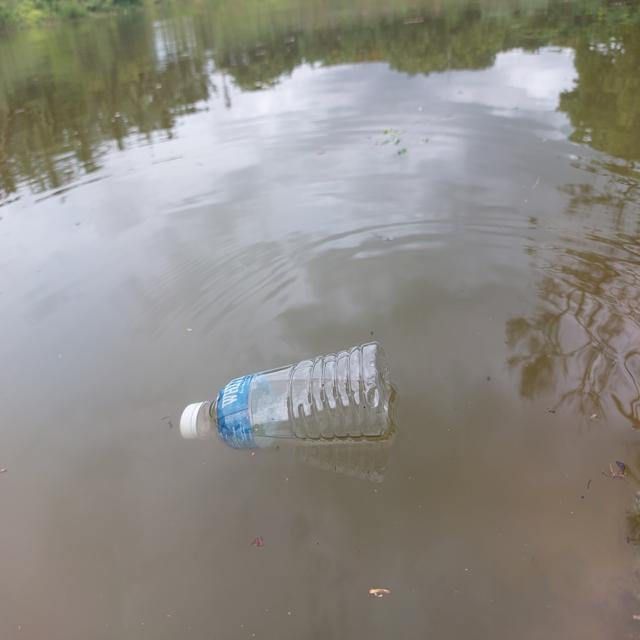waterbottle: (166, 334, 394, 468)
